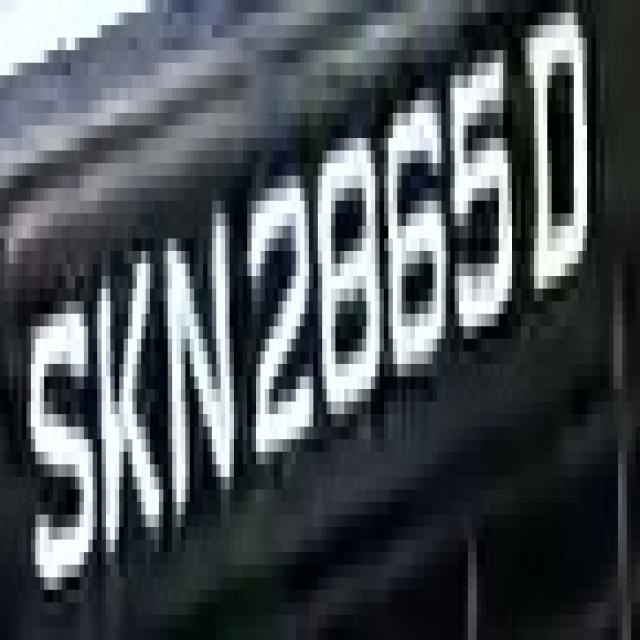2: (243, 138, 313, 439)
5: (442, 25, 526, 364)
6: (375, 75, 464, 427)
8: (313, 100, 384, 440)
D: (516, 25, 600, 301)
K: (84, 251, 163, 565)
N: (164, 213, 238, 552)
S: (22, 276, 97, 615)
